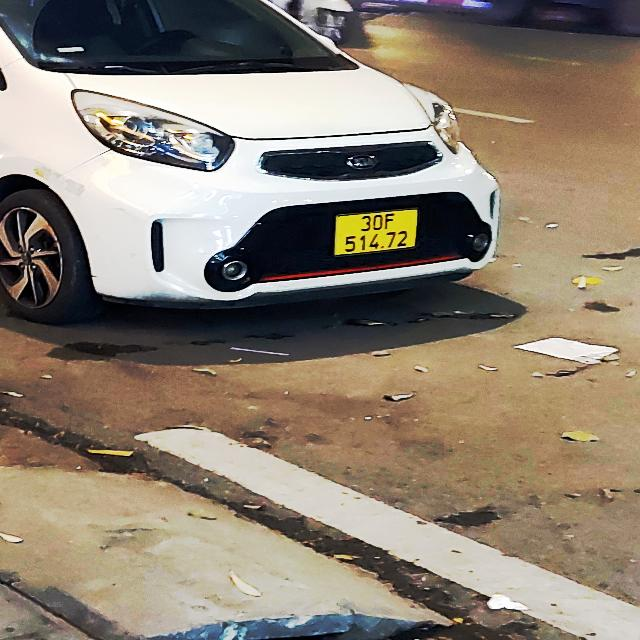license_plate: (337, 210, 418, 256)
